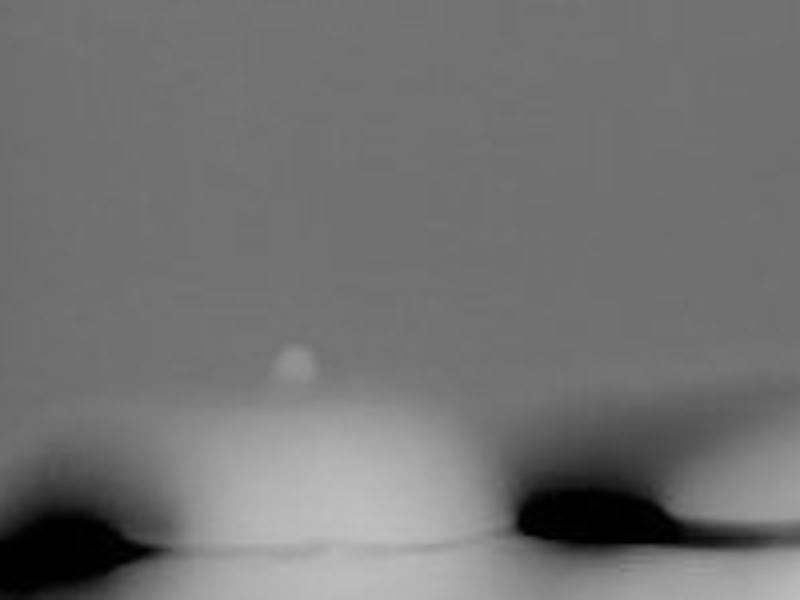defect: (515, 483, 685, 548), (1, 504, 128, 590)
